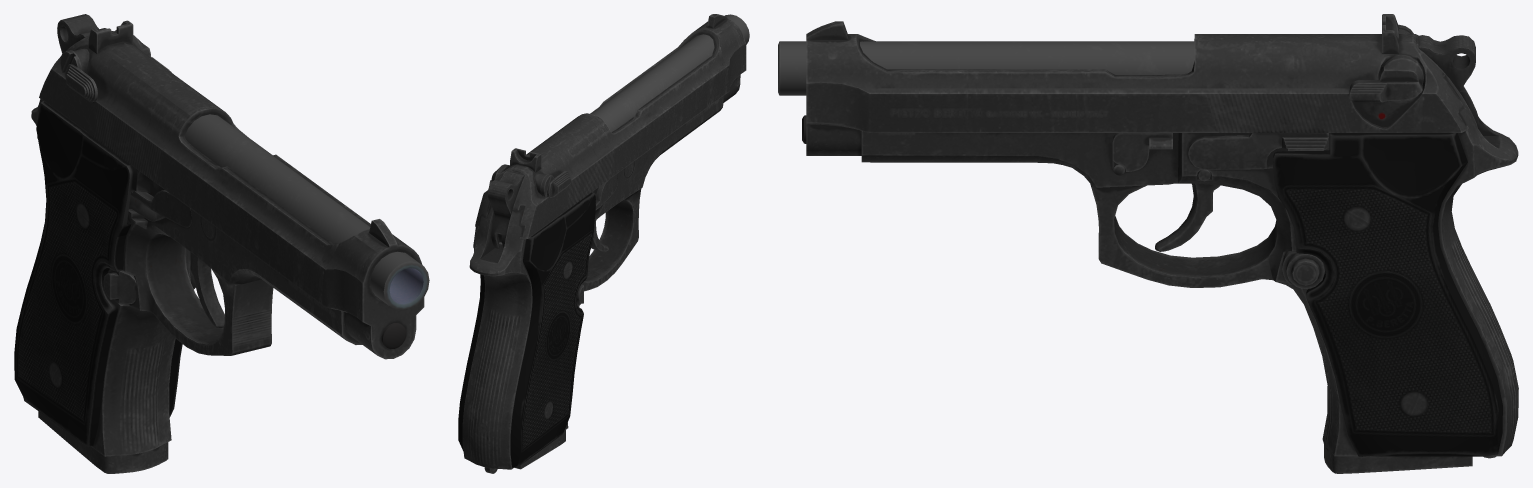
File: beretta_92_clean.glb
3 views of the same model, side by side, from view 1: azimuth 30°, elevation 25°; view 2: azimuth 150°, elevation 25°; view 3: azimuth 270°, elevation 25° (orthographic). The views are drawn at different scales.
Bounding box in the file's own units: 0.0311 × 0.1383 × 0.2135.
1 material, 1 textured.
